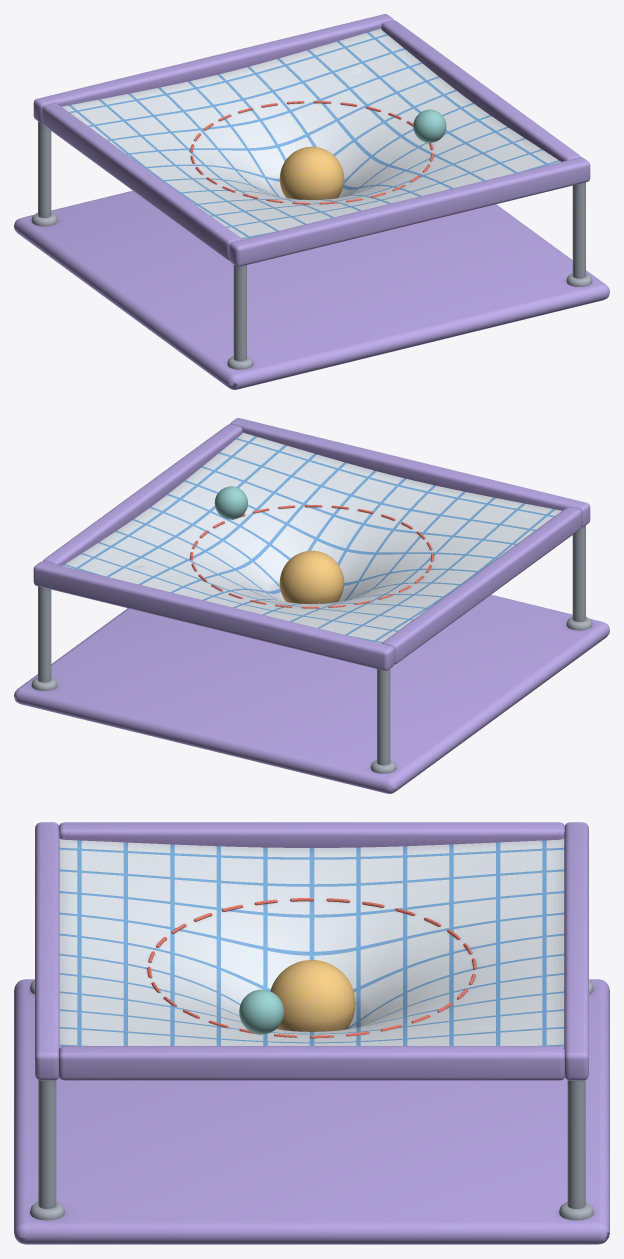
File: gravity-well.glb
3 views of the same model, one above another, from view 1: azimuth 30°, elevation 25°; view 2: azimuth 150°, elevation 25°; view 3: azimuth 270°, elevation 25° (orthographic). The views are drawn at different scales.
Parts seen in each view (by area): view 1: gravity-well_body, gravity-well_orbiter; view 2: gravity-well_body, gravity-well_orbiter; view 3: gravity-well_body, gravity-well_orbiter.
Part boxes in pixels (x1,y1,x2,y2): gravity-well_body: [14, 14, 609, 389]; gravity-well_orbiter: [413, 109, 446, 142]; gravity-well_body: [14, 418, 609, 793]; gravity-well_orbiter: [214, 486, 247, 519]; gravity-well_body: [14, 822, 609, 1244]; gravity-well_orbiter: [239, 989, 284, 1034].
Size of the model in its own units: 0.41 by 0.1489 by 0.41.
Materials: 2 (2 with a texture image).
